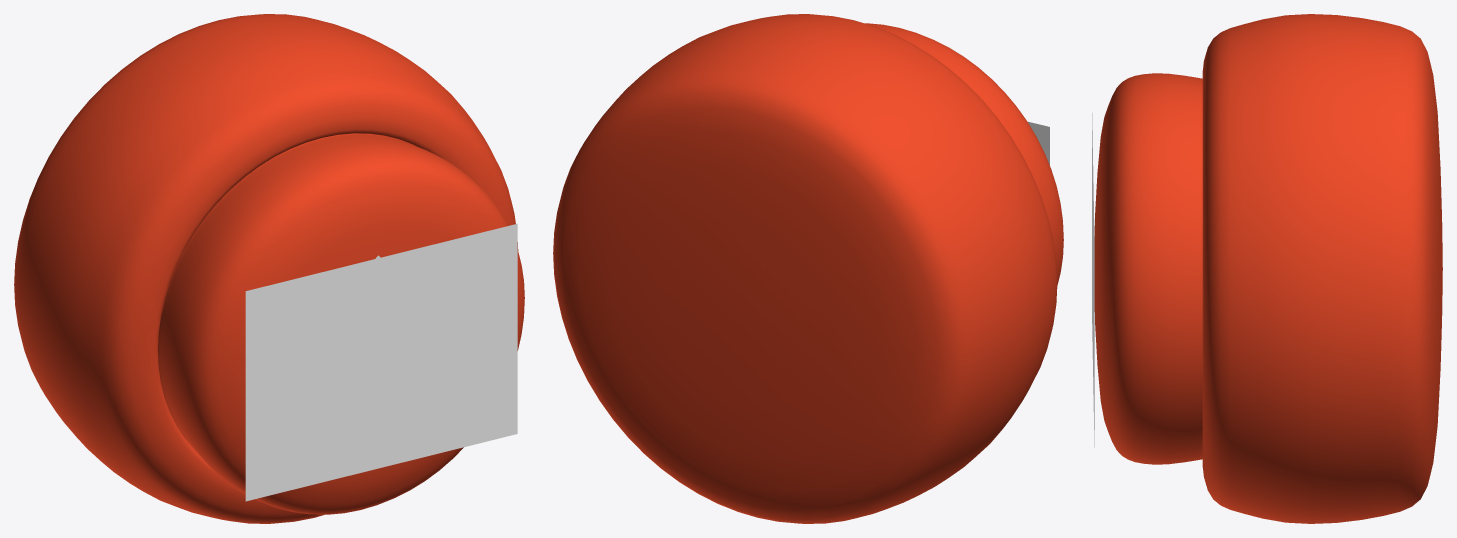
File: 8_journal.glb
The picture shows the model from 3 angles, left to right: view 1: azimuth 30°, elevation 25°; view 2: azimuth 150°, elevation 25°; view 3: azimuth 270°, elevation 25°; orthographic projection.
Visible parts, largest first — view 1: Button_Circle, clipart21628, kisspng-dinosaur-museum-brainpop-science-fossil-dino-5ac58aa; view 2: Button_Circle; view 3: Button_Circle, clipart21628.
Boxes of the visible parts, <box> form: Button_Circle: <box>14,14,524,523</box>; clipart21628: <box>245,223,517,501</box>; kisspng-dinosaur-museum-brainpop-science-fossil-dino-5ac58aa: <box>375,255,436,370</box>; Button_Circle: <box>553,14,1063,523</box>; Button_Circle: <box>1094,14,1442,523</box>; clipart21628: <box>1092,113,1094,447</box>.
Bounding box in the file's own units: 0.2104 × 0.2104 × 0.1445.
